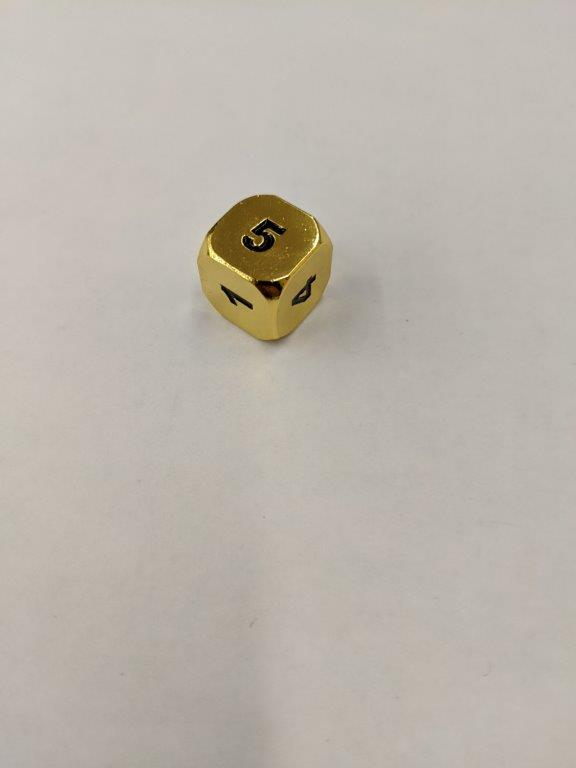d6-5: (196, 194, 334, 345)
